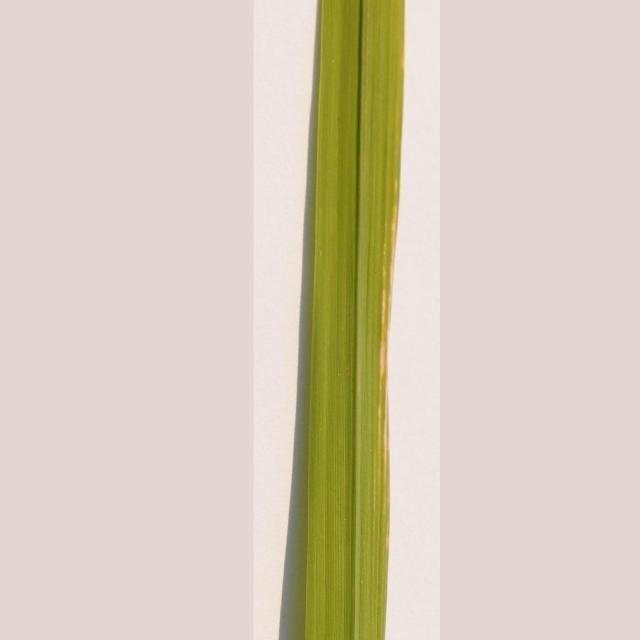Bacterial_Leaf_Blight: (364, 180, 400, 509)
